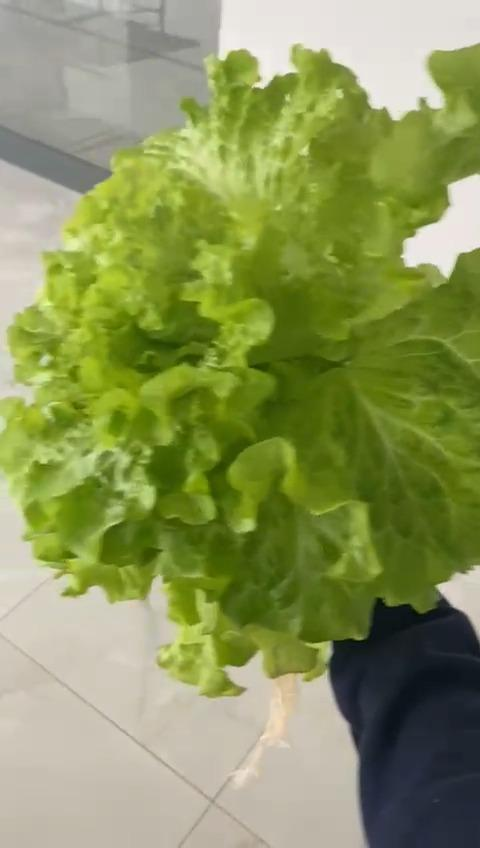Healthy: (0, 45, 480, 700)
